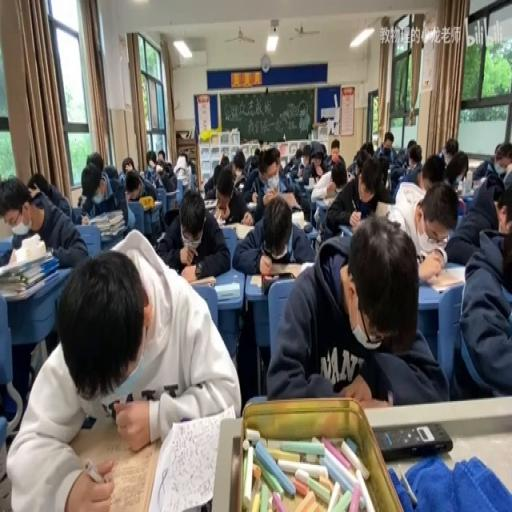calculator: (0, 268, 58, 298), (250, 266, 304, 289), (426, 263, 464, 292), (221, 222, 253, 240), (214, 282, 240, 300), (374, 199, 394, 219), (187, 273, 216, 286), (281, 192, 300, 210), (211, 206, 226, 224), (290, 209, 304, 228), (298, 182, 316, 195), (298, 260, 314, 273), (324, 181, 336, 196), (318, 195, 334, 206), (202, 196, 216, 208), (176, 175, 189, 186), (155, 232, 165, 243), (245, 201, 256, 209), (150, 199, 162, 206)
paper: (12, 228, 238, 506), (270, 215, 444, 407), (448, 182, 512, 400), (1, 172, 86, 269), (390, 176, 456, 282), (154, 186, 229, 279), (230, 191, 314, 273), (325, 150, 392, 238), (78, 158, 126, 230), (122, 165, 158, 233), (470, 142, 510, 194), (298, 141, 333, 192), (388, 141, 419, 193), (204, 154, 230, 196), (152, 151, 178, 192), (496, 184, 512, 248), (419, 154, 445, 192), (258, 147, 280, 179), (240, 164, 260, 199), (27, 171, 51, 199), (375, 129, 394, 161), (349, 146, 368, 178), (326, 138, 346, 168), (282, 169, 302, 192), (442, 137, 458, 165), (374, 154, 388, 184), (332, 162, 346, 189), (284, 148, 298, 173), (86, 150, 103, 170), (100, 164, 118, 180), (233, 150, 245, 174), (145, 150, 157, 170), (122, 155, 134, 172), (186, 159, 196, 179), (494, 146, 503, 165), (128, 186, 141, 199), (408, 156, 419, 170), (363, 141, 373, 156), (156, 149, 165, 162), (406, 138, 415, 149), (294, 149, 301, 162), (253, 148, 259, 161), (77, 195, 83, 206)
person: (374, 422, 451, 461)
